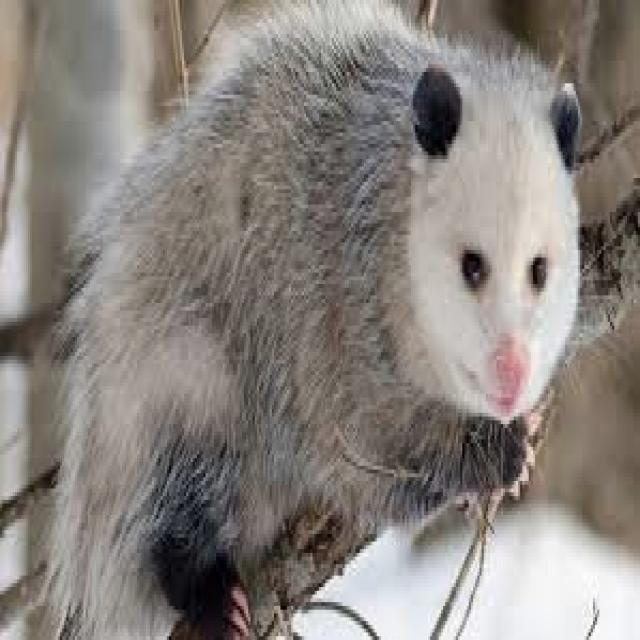possum: (47, 0, 580, 636)
